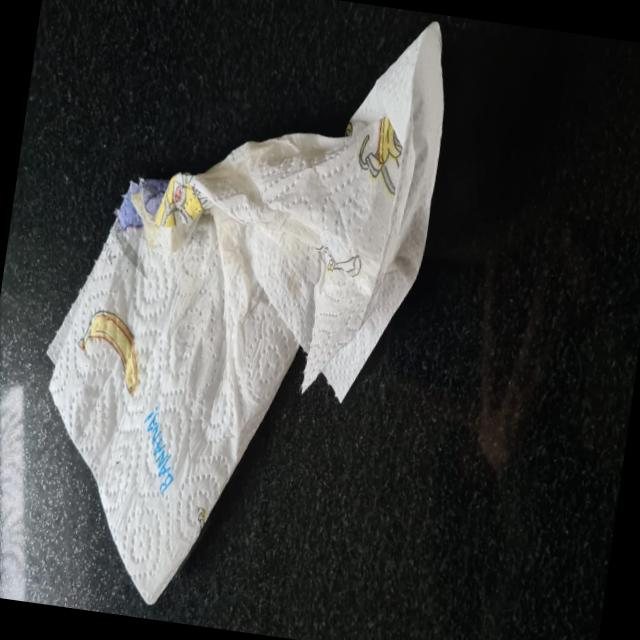organic waste: (6, 0, 462, 631)
